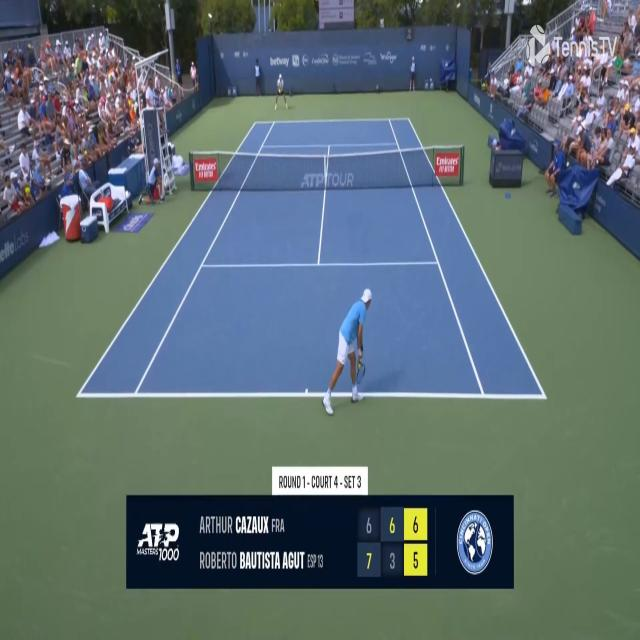tennis-player: (321, 283, 369, 419), (273, 74, 289, 111)
